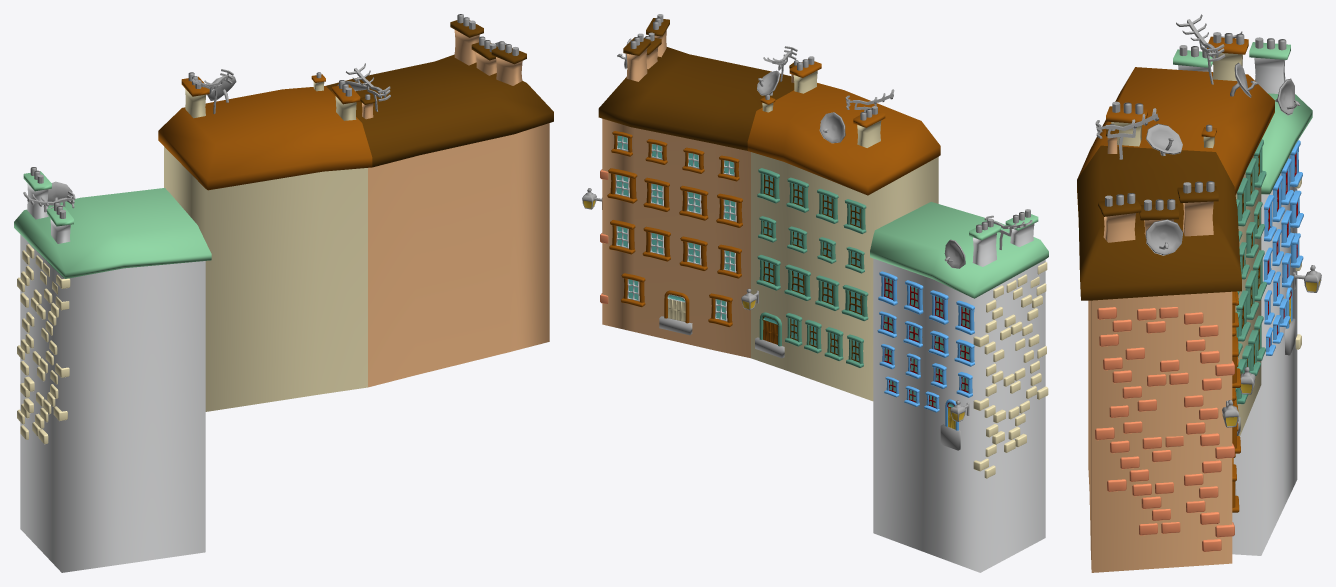
Rendered from building_alena_3.fbx.
3 renders of one model, left to right at view 1: azimuth 30°, elevation 25°; view 2: azimuth 150°, elevation 25°; view 3: azimuth 270°, elevation 25°, orthographic. The views are drawn at different scales.
Visible parts, largest first — view 1: building_alena_3; view 2: building_alena_3; view 3: building_alena_3.
Boxes of the visible parts, <box> form: building_alena_3: <box>14,14,553,572</box>; building_alena_3: <box>582,14,1048,572</box>; building_alena_3: <box>1077,14,1321,572</box>.
Size of the model in its own units: 45.25 by 40.94 by 16.68.
